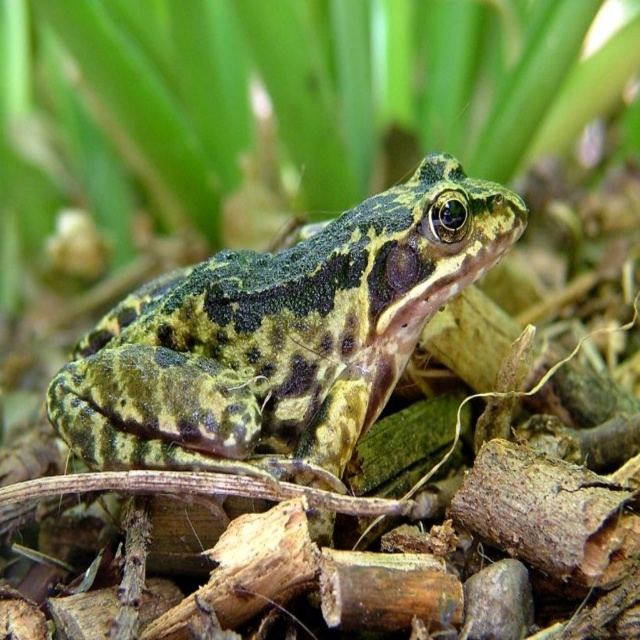Frog: (46, 151, 529, 550)
